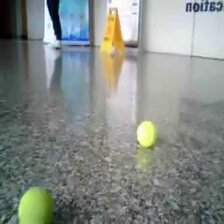tennis: (17, 187, 55, 224), (135, 121, 156, 147)
